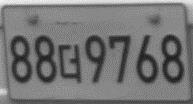6: (134, 33, 159, 83)
7: (107, 34, 131, 83)
8: (32, 34, 58, 83), (8, 34, 33, 83), (160, 33, 185, 82)
9: (84, 33, 107, 84)
더: (57, 42, 82, 83)
